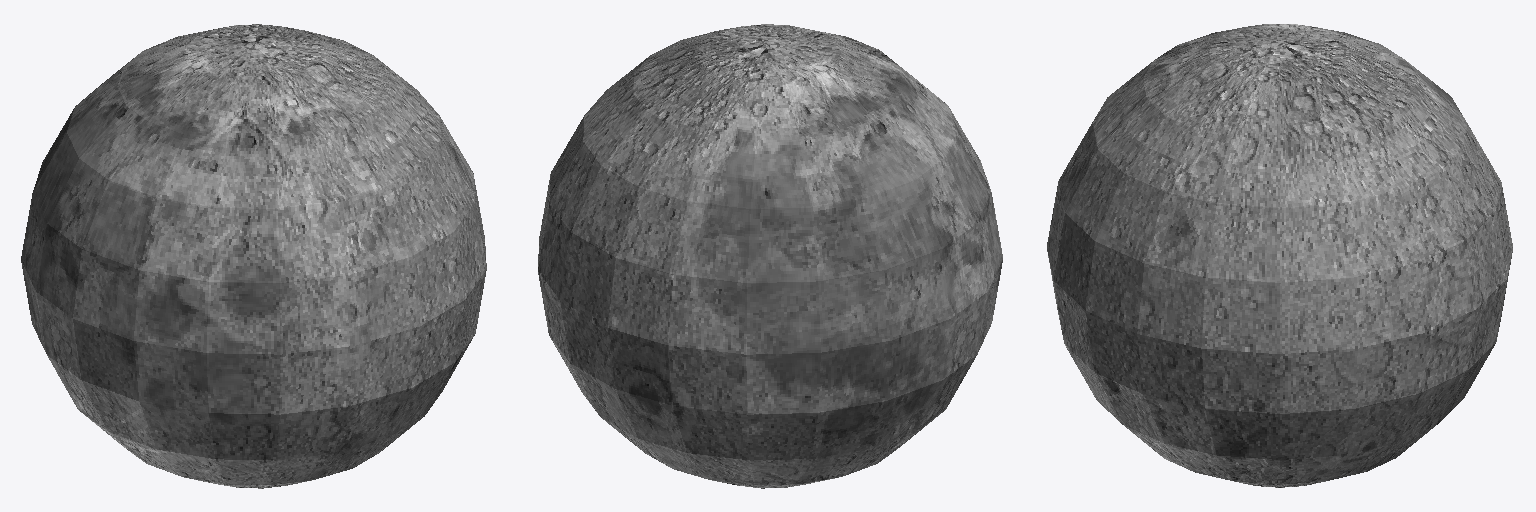
3 renders of one model, left to right at view 1: azimuth 30°, elevation 25°; view 2: azimuth 150°, elevation 25°; view 3: azimuth 270°, elevation 25°, orthographic.
Parts seen in each view (by area): view 1: Default object_1; view 2: Default object_1; view 3: Default object_1.
Boxes of the visible parts, x1,y1,x2,y2 form: Default object_1: [21, 24, 486, 488]; Default object_1: [538, 24, 1002, 488]; Default object_1: [1047, 24, 1512, 487].
Size of the model in its own units: 11.93 by 12 by 11.96.
1 materials, 1 textured.